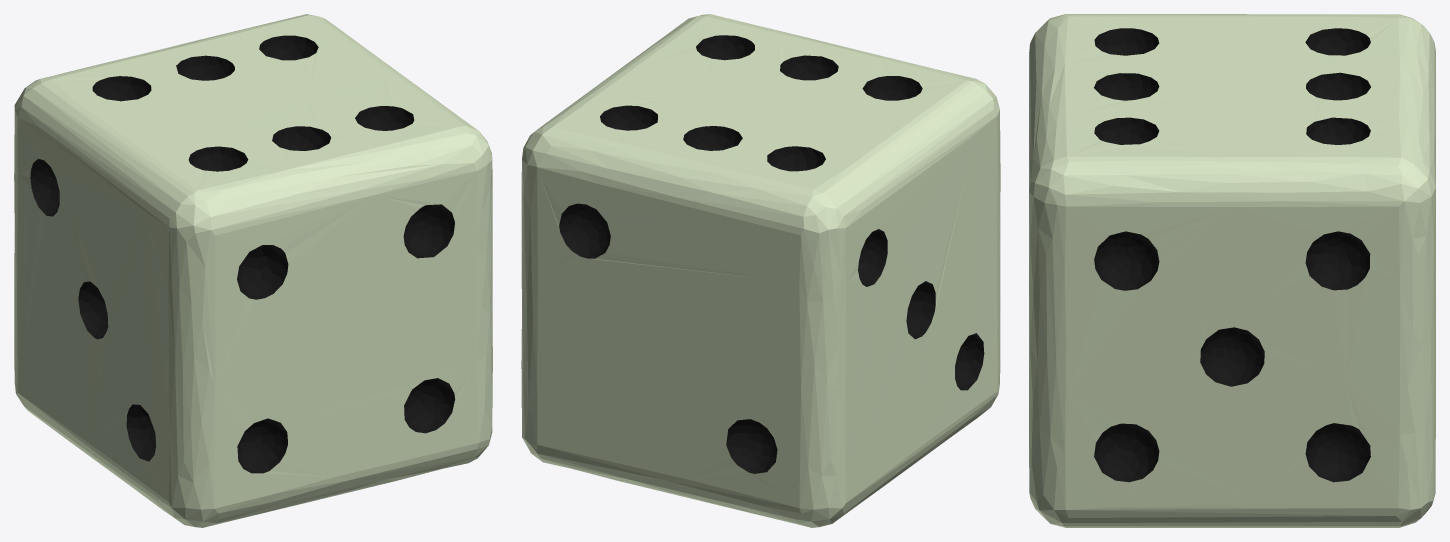
Rendered from dice.fbx.
The picture shows the model from 3 angles, left to right: view 1: azimuth 30°, elevation 25°; view 2: azimuth 150°, elevation 25°; view 3: azimuth 270°, elevation 25°; orthographic projection. The views are drawn at different scales.
Parts seen in each view (by area): view 1: Dice; view 2: Dice; view 3: Dice.
Boxes of the visible parts, x1=… form: Dice: x1=14, y1=14, x2=492, y2=527; Dice: x1=521, y1=14, x2=1000, y2=527; Dice: x1=1029, y1=14, x2=1435, y2=527.
Bounding box in the file's own units: 250 × 250 × 250.
